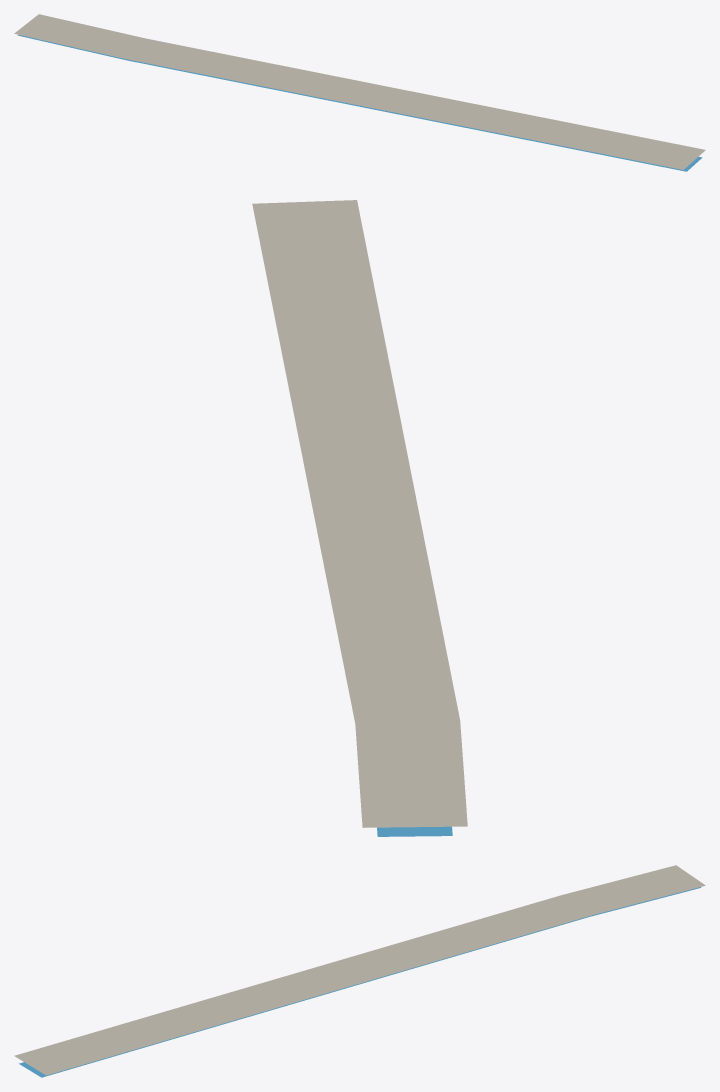
3 renders of one model, top to bottom at view 1: azimuth 30°, elevation 25°; view 2: azimuth 150°, elevation 25°; view 3: azimuth 270°, elevation 25°, orthographic. The views are drawn at different scales.
Parts seen in each view (by area): view 1: estructura_terreno, estructura_agua; view 2: estructura_terreno; view 3: estructura_terreno, estructura_agua.
Boxes of the visible parts, left/top/right/bottom form: estructura_terreno: left=14, top=14, right=705, bottom=169; estructura_agua: left=18, top=35, right=702, bottom=171; estructura_terreno: left=252, top=200, right=467, bottom=827; estructura_terreno: left=14, top=865, right=705, bottom=1075; estructura_agua: left=19, top=887, right=701, bottom=1077.
Size of the model in its own units: 36.86 by 0.41 by 51.24.
